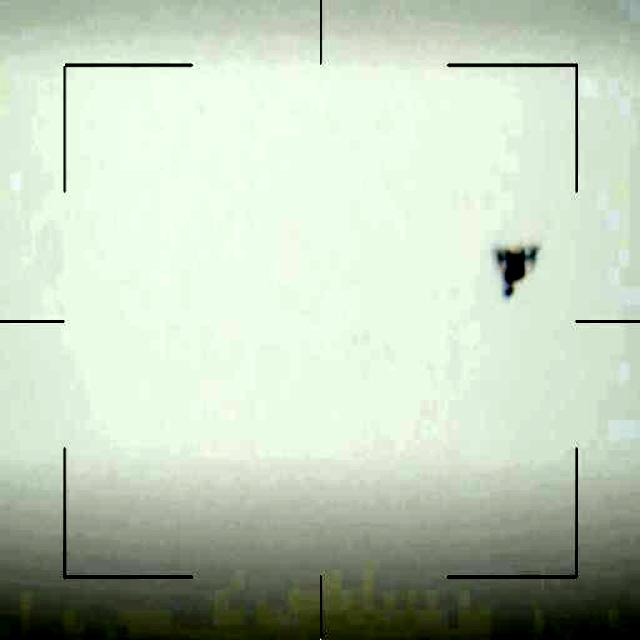bird: (491, 236, 550, 310)
